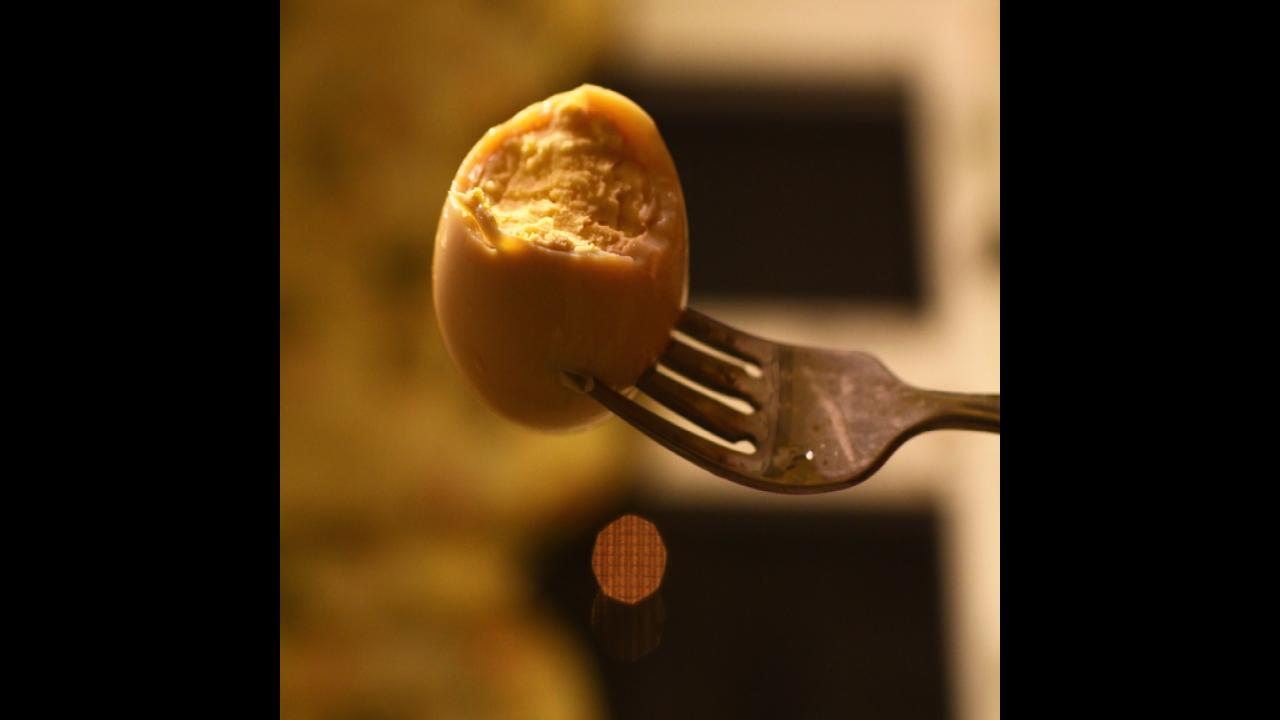fork: (556, 292, 1000, 503)
